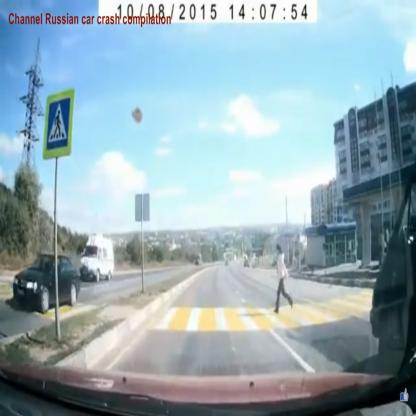crosswalk: (164, 301, 369, 331)
